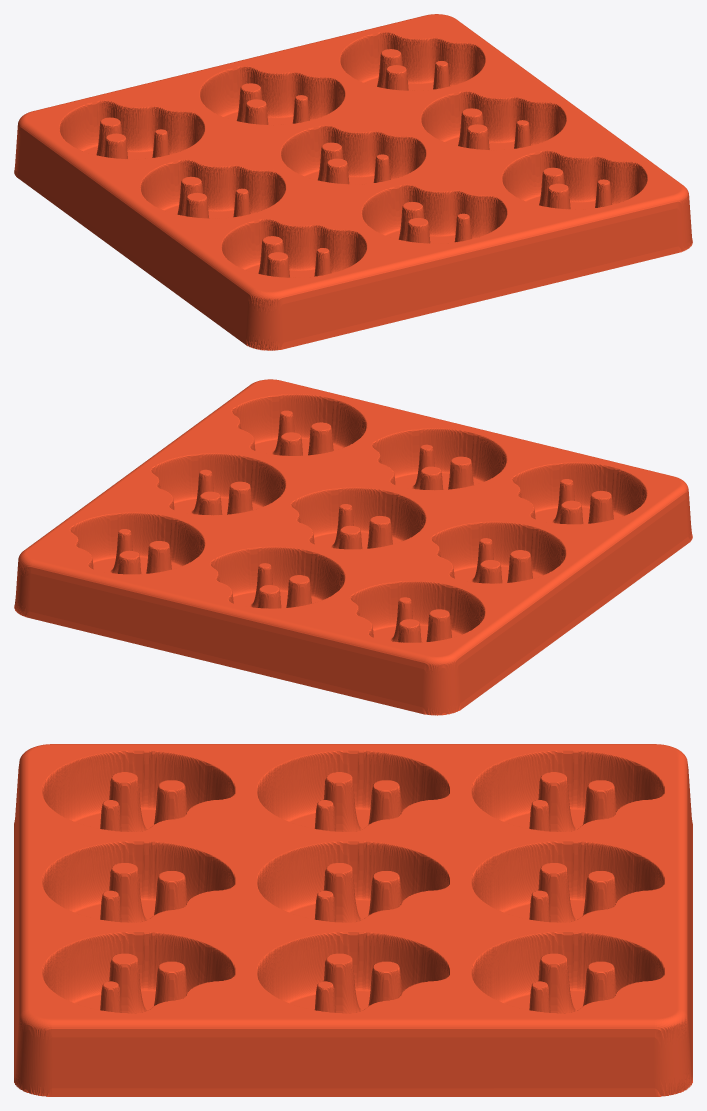
The model's file is mold.glb.
The picture shows the model from 3 angles, top to bottom: view 1: azimuth 30°, elevation 25°; view 2: azimuth 150°, elevation 25°; view 3: azimuth 270°, elevation 25°; orthographic projection. The views are drawn at different scales.
Parts seen in each view (by area): view 1: geometry_0; view 2: geometry_0; view 3: geometry_0.
Part boxes in pixels (<box>): geometry_0: <box>14,14,692,350</box>; geometry_0: <box>14,379,692,715</box>; geometry_0: <box>14,744,692,1096</box>.
Bounding box in the file's own units: 0.1595 × 0.0185 × 0.1595.
